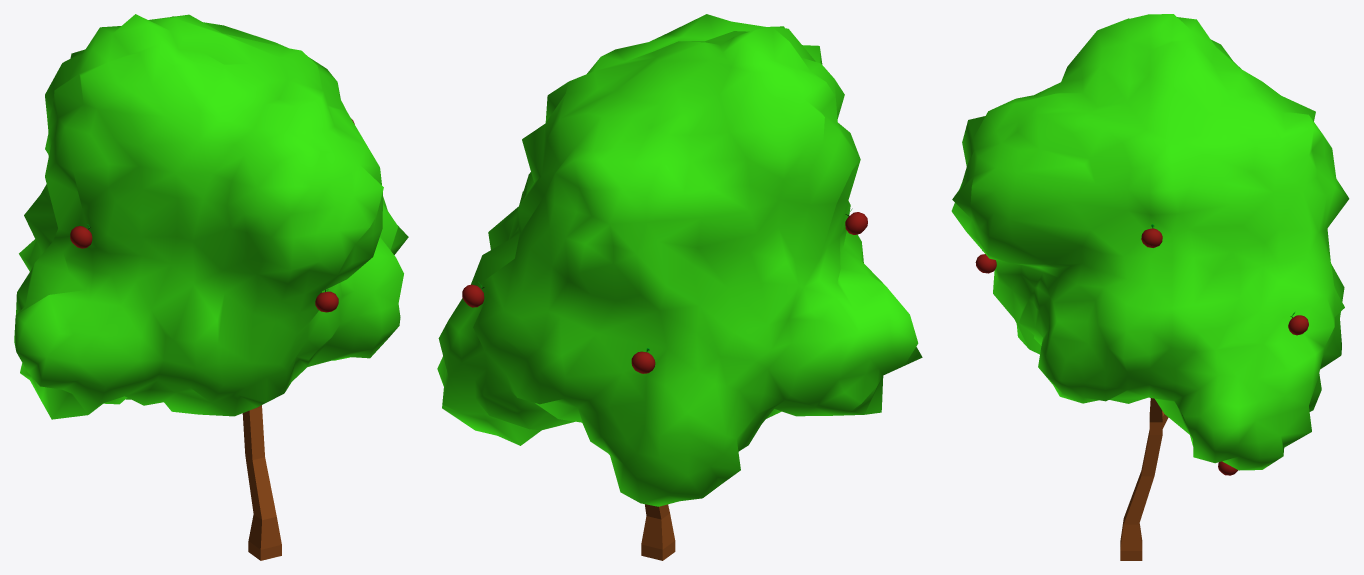
File: SM_AppleTree_002_LOD3.fbx
3 views of the same model, side by side, from view 1: azimuth 30°, elevation 25°; view 2: azimuth 150°, elevation 25°; view 3: azimuth 270°, elevation 25° (orthographic). The views are drawn at different scales.
Visible parts, largest first — view 1: AppleTree_02; view 2: AppleTree_02; view 3: AppleTree_02.
Boxes of the visible parts, x1,y1,x2,y2 form: AppleTree_02: (14, 14, 408, 560); AppleTree_02: (437, 14, 922, 560); AppleTree_02: (951, 14, 1349, 560).
Bounding box in the file's own units: 442 × 559 × 407.
